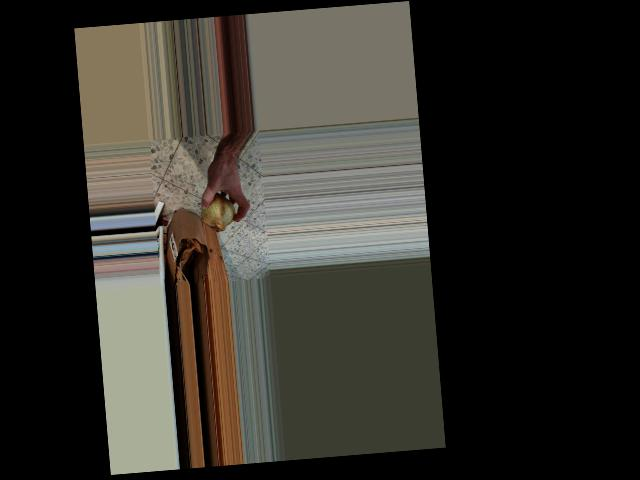onion: (199, 186, 236, 232)
